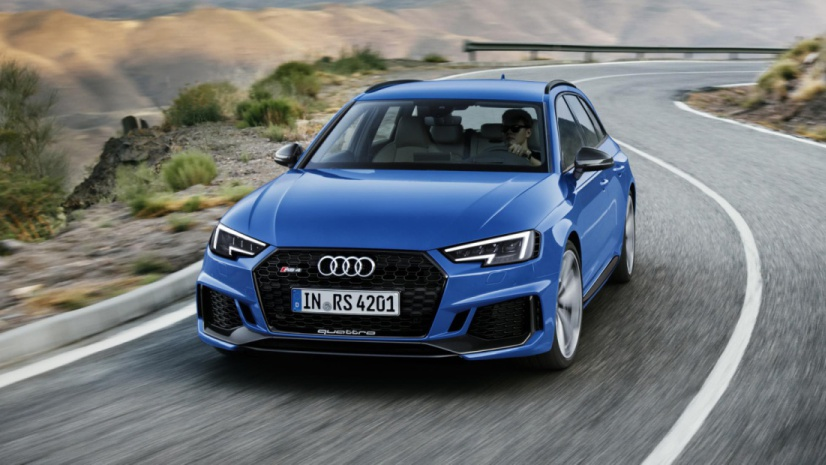audi: (310, 252, 380, 279)
